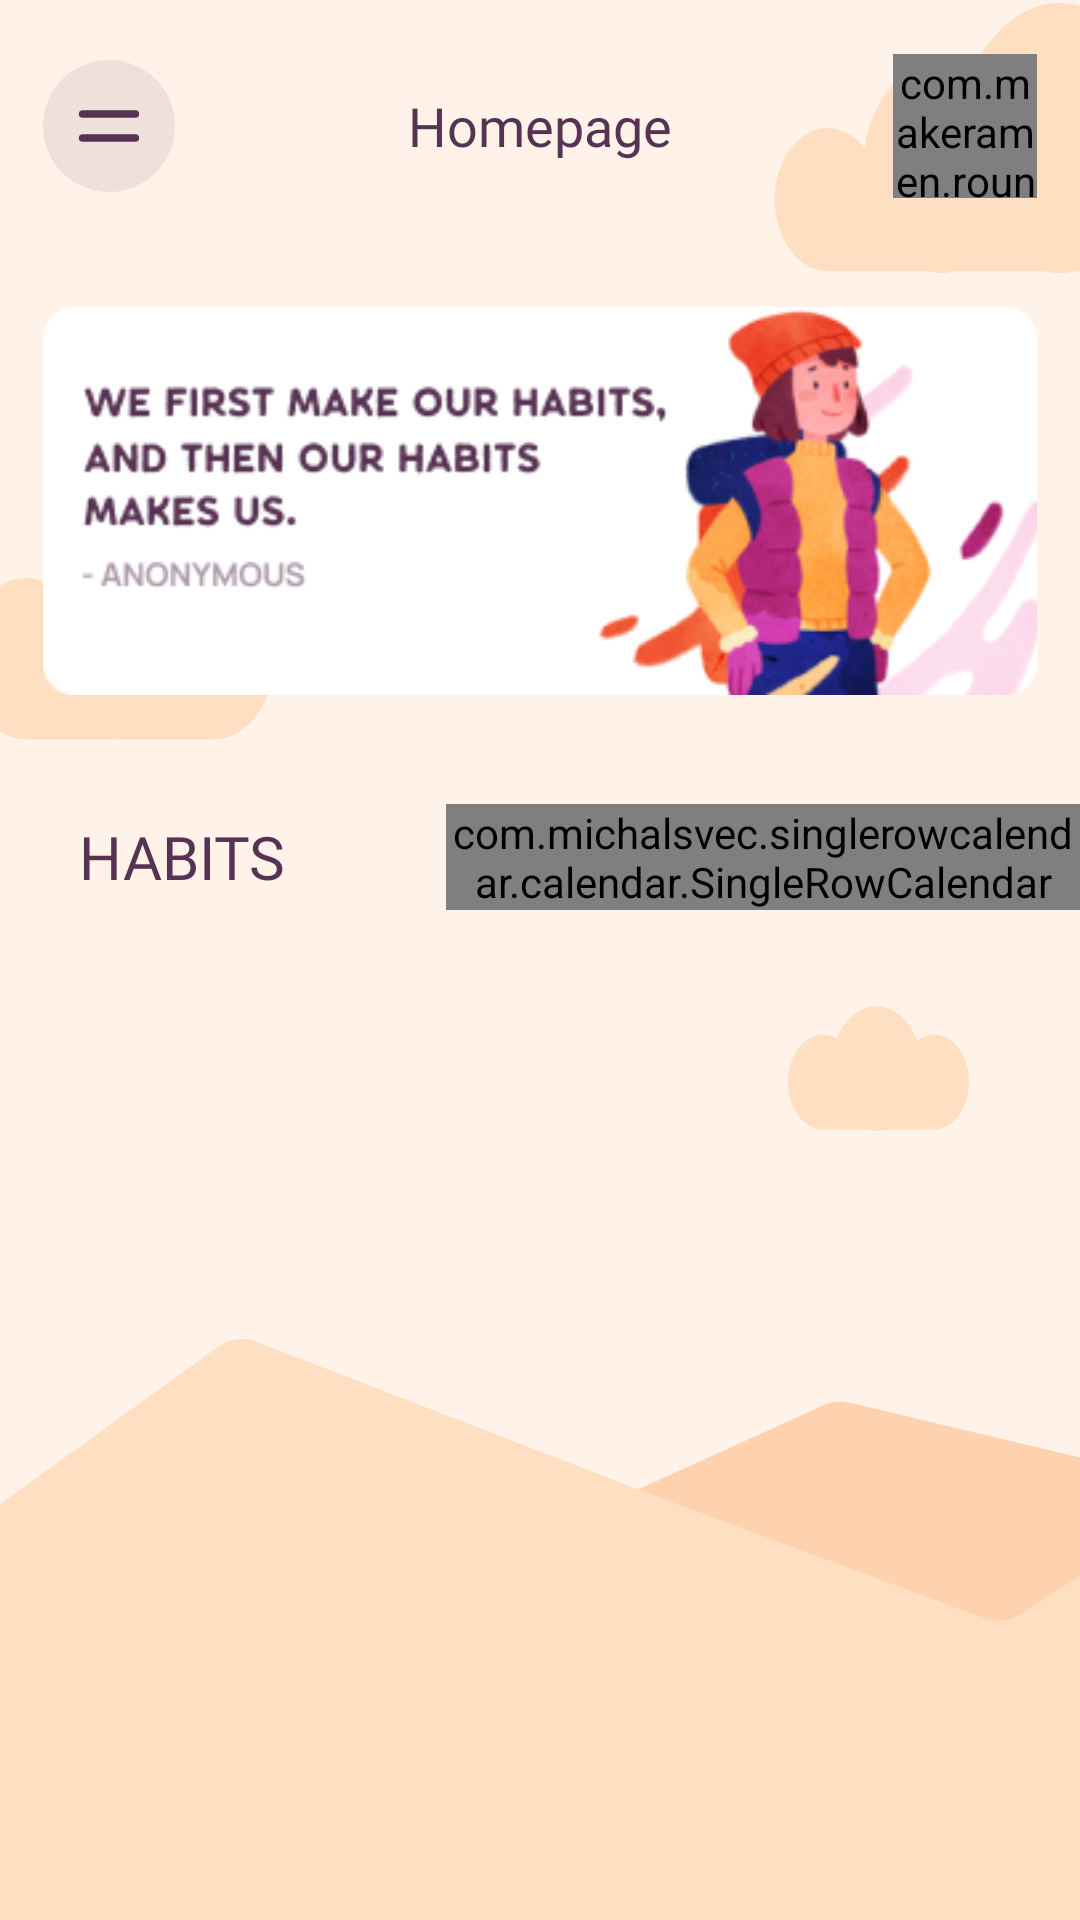

Locate icon controls on the screen. Image size 1080 × 1920, boxes as (x1, y1, x2, y2).
hamburger menu: (43, 60, 175, 192)
